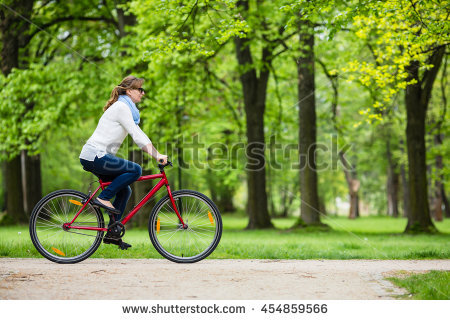bikerider: (29, 74, 227, 269)
